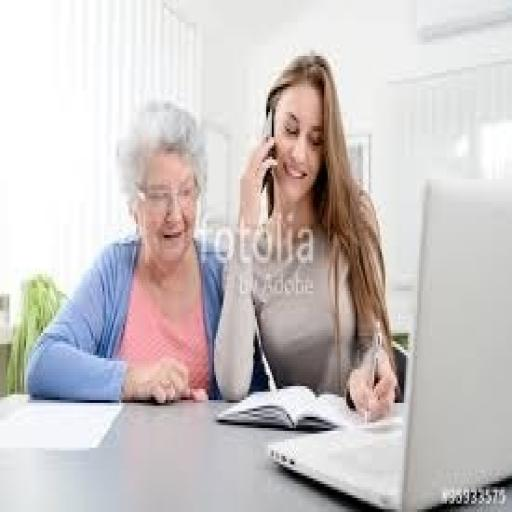using_laptop: (266, 174, 510, 509)
